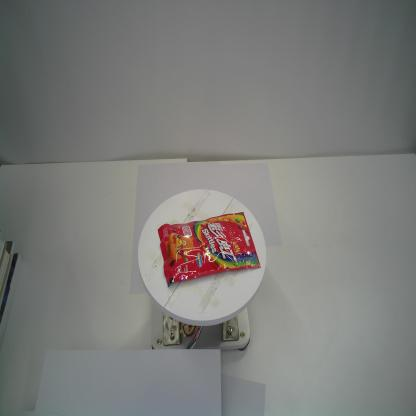Candy: (157, 210, 262, 288)
